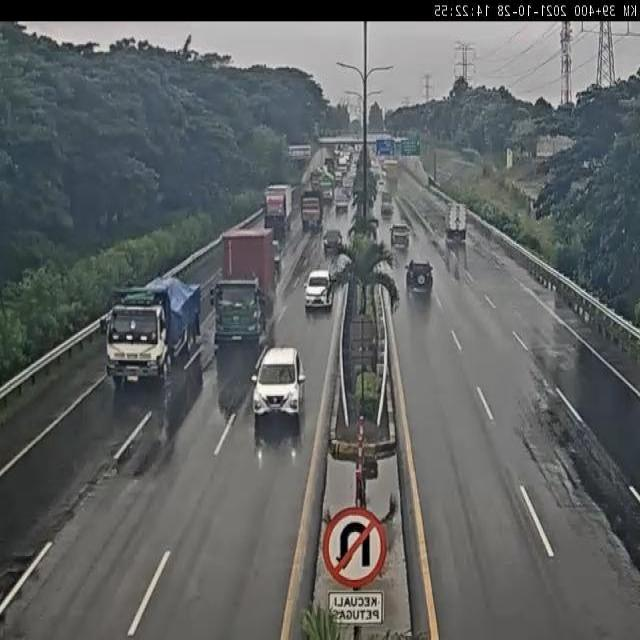Car: (252, 345, 307, 433), (300, 260, 338, 314), (405, 260, 434, 302), (390, 223, 411, 249), (323, 230, 343, 257)
Truck: (99, 259, 201, 400), (212, 216, 278, 370), (438, 195, 474, 252)
